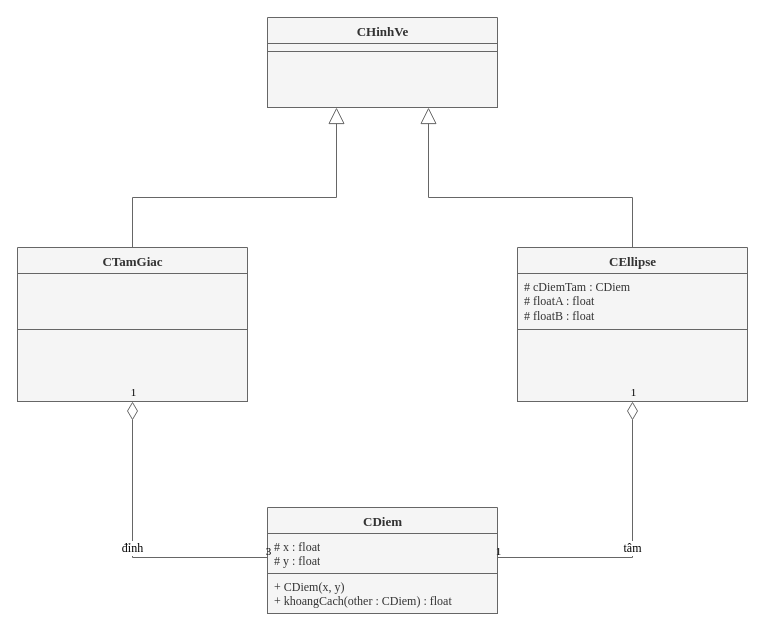
Image size: 765x634. Some labels were removed from this diagram. The centre of each missing label's shape, as x and y in pixels:
"# p1 : CDiem # p2 : CDiem # p3 : CDiem" goes at (x=132, y=301).
"+ CEllipse(cDiemTam, a, b) + chuVi() : float + dienTich() : float + ve() : void" goes at (x=632, y=365).
"+ CTamGiac(p1, p2, p3) + chuVi() : float + dienTich() : float + ve() : void" goes at (x=132, y=365).
"+ dienTich() : float + chuVi() : float + ve() : void" goes at (x=382, y=79).
